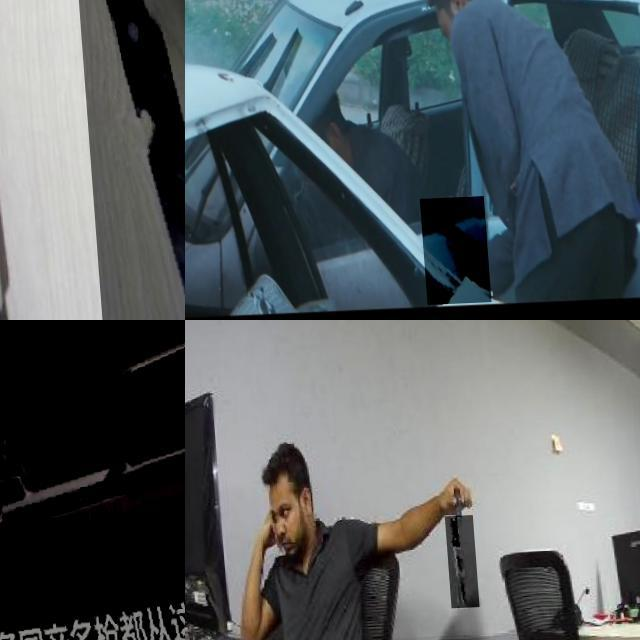-: (61, 0, 185, 320), (440, 518, 472, 612)
gun-knife-thesis - v11 Yolov5 augmented: (0, 320, 185, 640), (412, 200, 482, 308)
